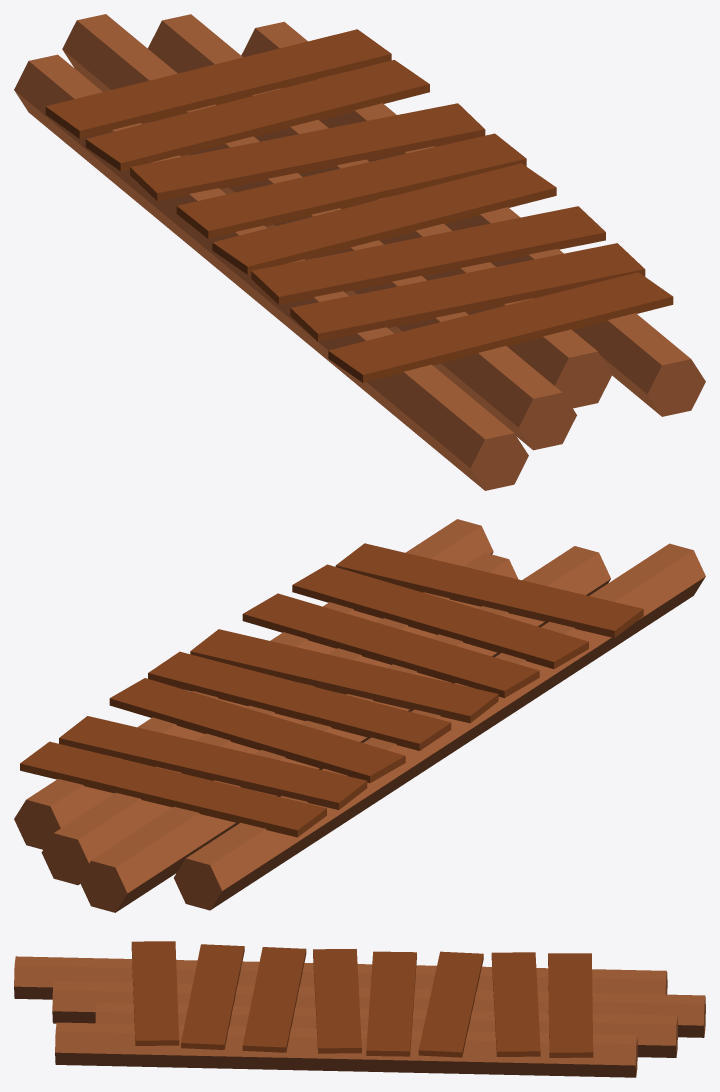
The model's file is prop_woodBridge.FBX.
The picture shows the model from 3 angles, top to bottom: view 1: azimuth 30°, elevation 25°; view 2: azimuth 150°, elevation 25°; view 3: azimuth 270°, elevation 25°; orthographic projection. The views are drawn at different scales.
Parts seen in each view (by area): view 1: temp; view 2: temp; view 3: temp.
Boxes of the visible parts, x1,y1,x2,y2 form: temp: (14, 14, 705, 490); temp: (14, 519, 705, 912); temp: (14, 941, 705, 1077).
Size of the model in its own units: 3.08 by 0.4901 by 8.1.
Materials: 1 (1 with a texture image).
